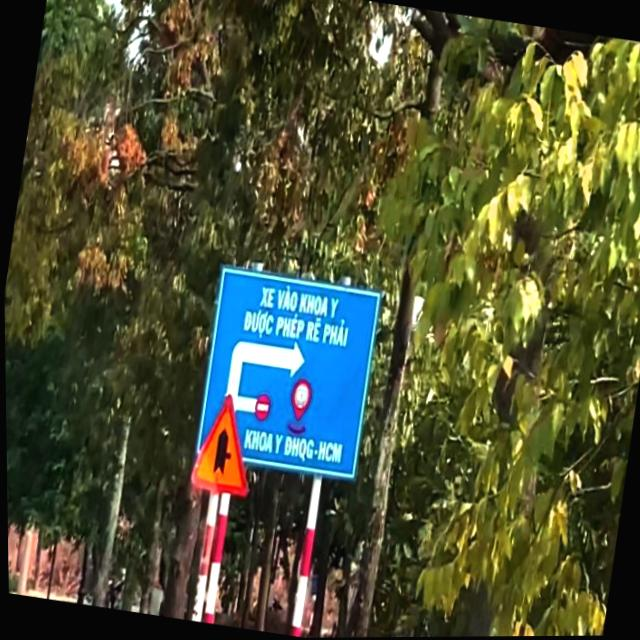Cam di nguoc chieu: (252, 393, 272, 423)
Giao nhau voi duong khong uu tien ben phai: (184, 389, 262, 499)
